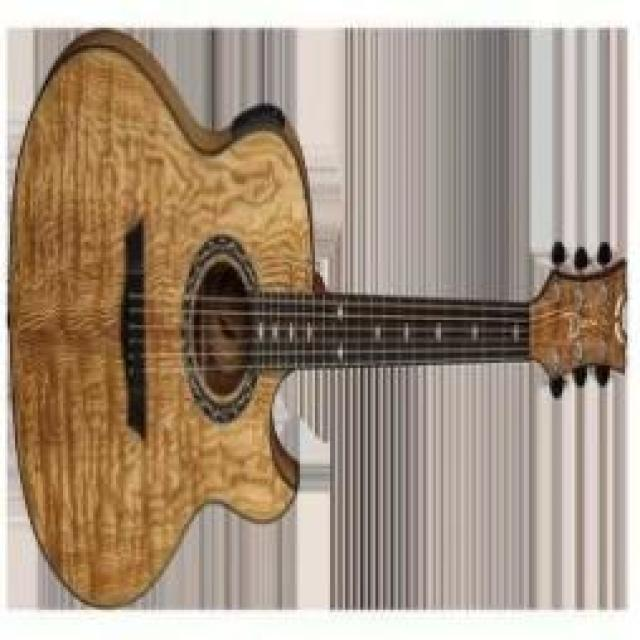acousticguitar: (7, 81, 620, 582)
